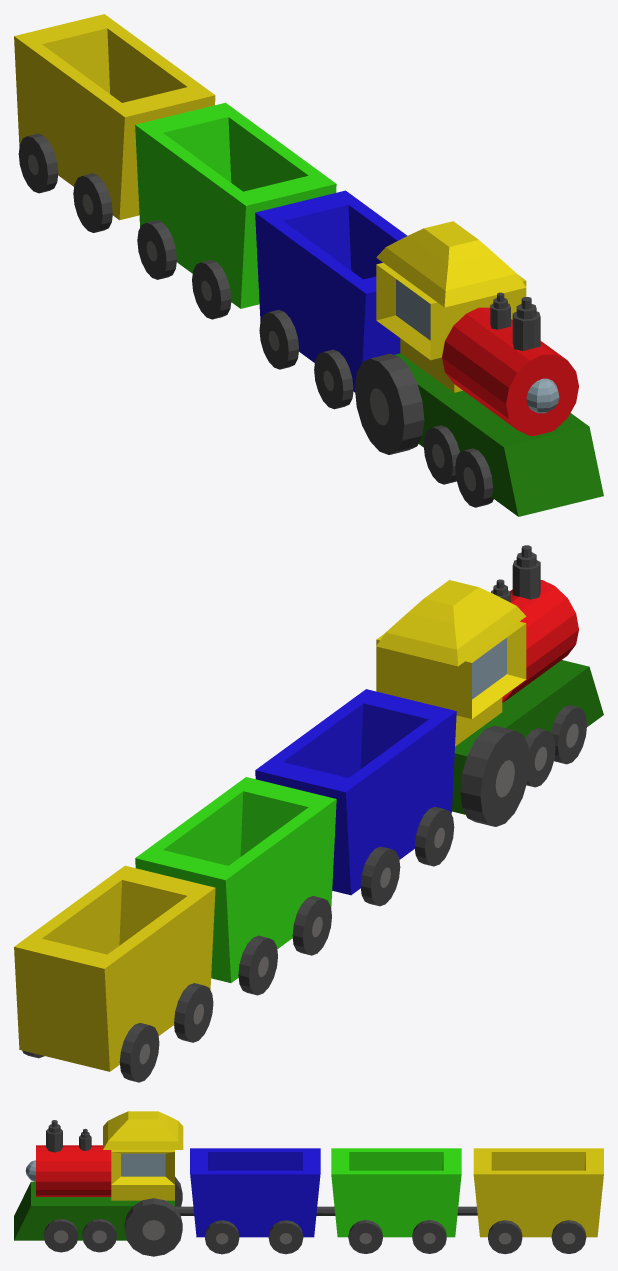
File: train.glb
3 renders of one model, top to bottom at view 1: azimuth 30°, elevation 25°; view 2: azimuth 150°, elevation 25°; view 3: azimuth 270°, elevation 25°, orthographic. The views are drawn at different scales.
Visible parts, largest first — view 1: ToyTrain; view 2: ToyTrain; view 3: ToyTrain.
Part boxes in pixels (x1,y1,x2,y2): ToyTrain: (14, 14, 603, 516); ToyTrain: (14, 545, 603, 1082); ToyTrain: (14, 1111, 603, 1256).
Size of the model in its own units: 0.2105 by 0.3337 by 1.45.
